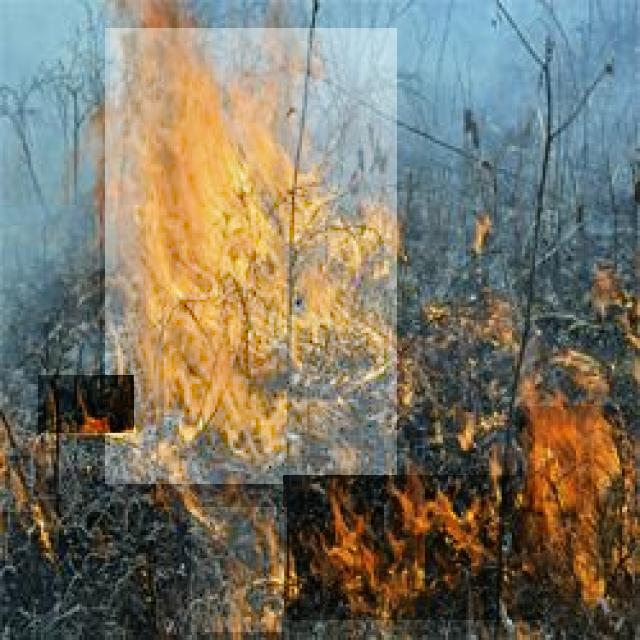Fire: (105, 28, 397, 484), (283, 475, 543, 620), (516, 406, 640, 598), (191, 507, 287, 632), (38, 375, 134, 433)
